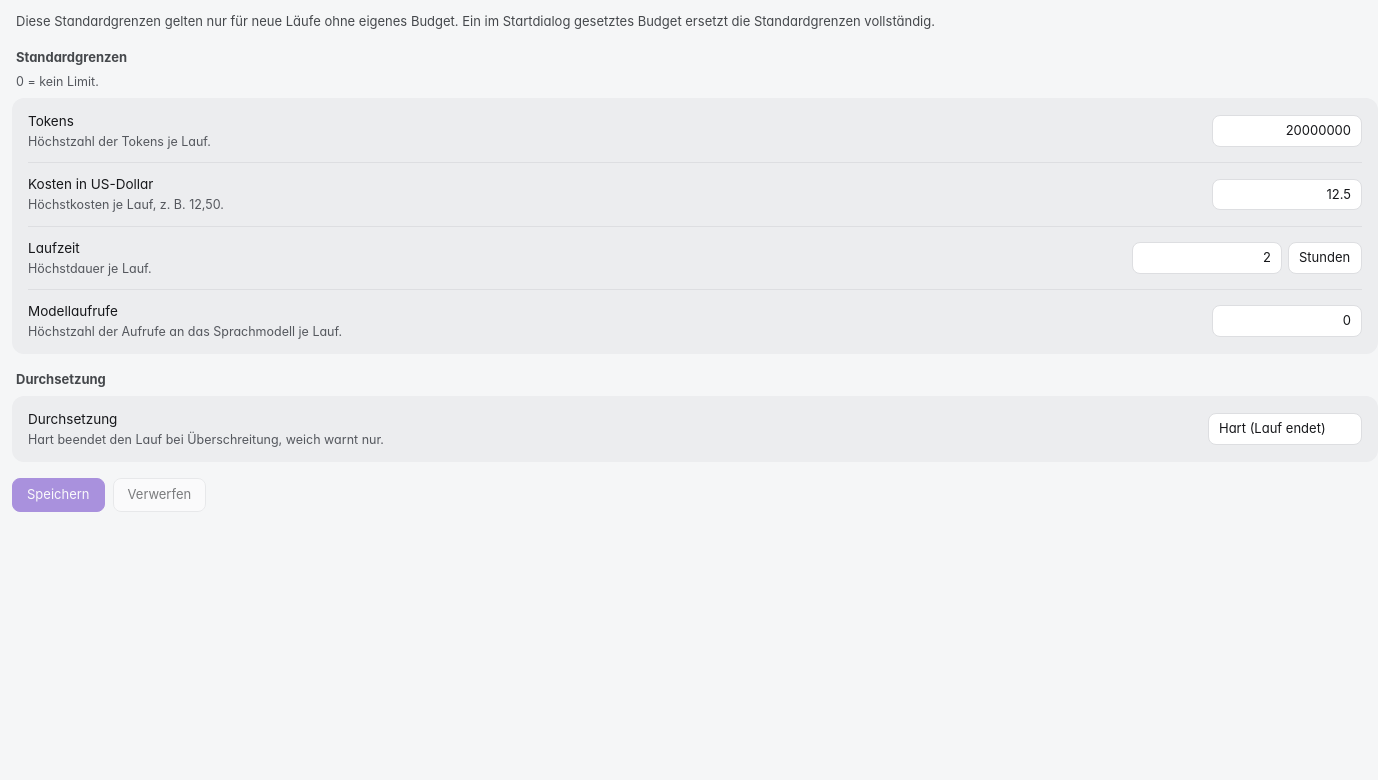
Test: SectionBudgets › speichert Kosten in Mikro-USD und Zeit in Sekunden, nur geänderte Felder
Step 1. Replace the text in the field with id "budget-cost" with "3,25" → (1287, 194), box [1212,179,1362,210]
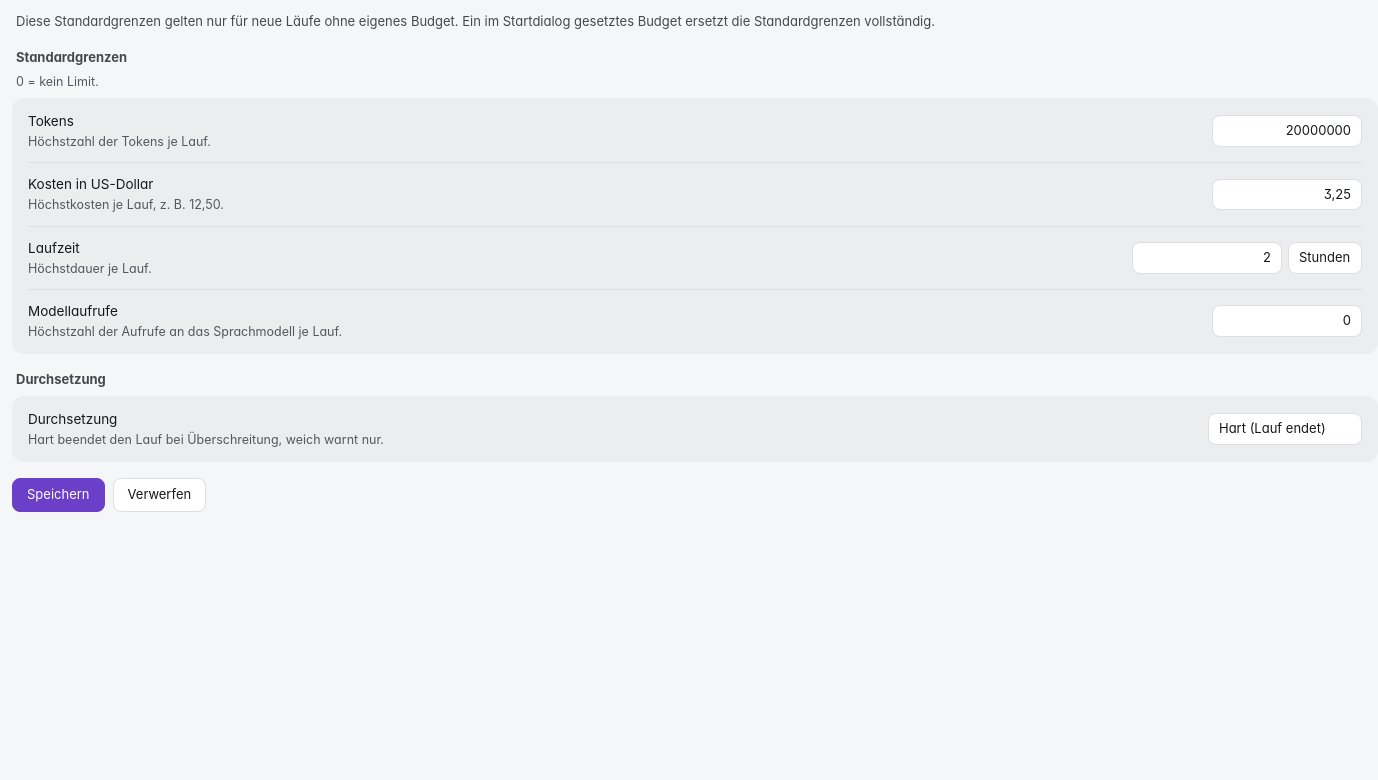
Step 2. Replace the text in the field with id "budget-duration" with "90" → (1207, 258), box [1132,242,1282,274]
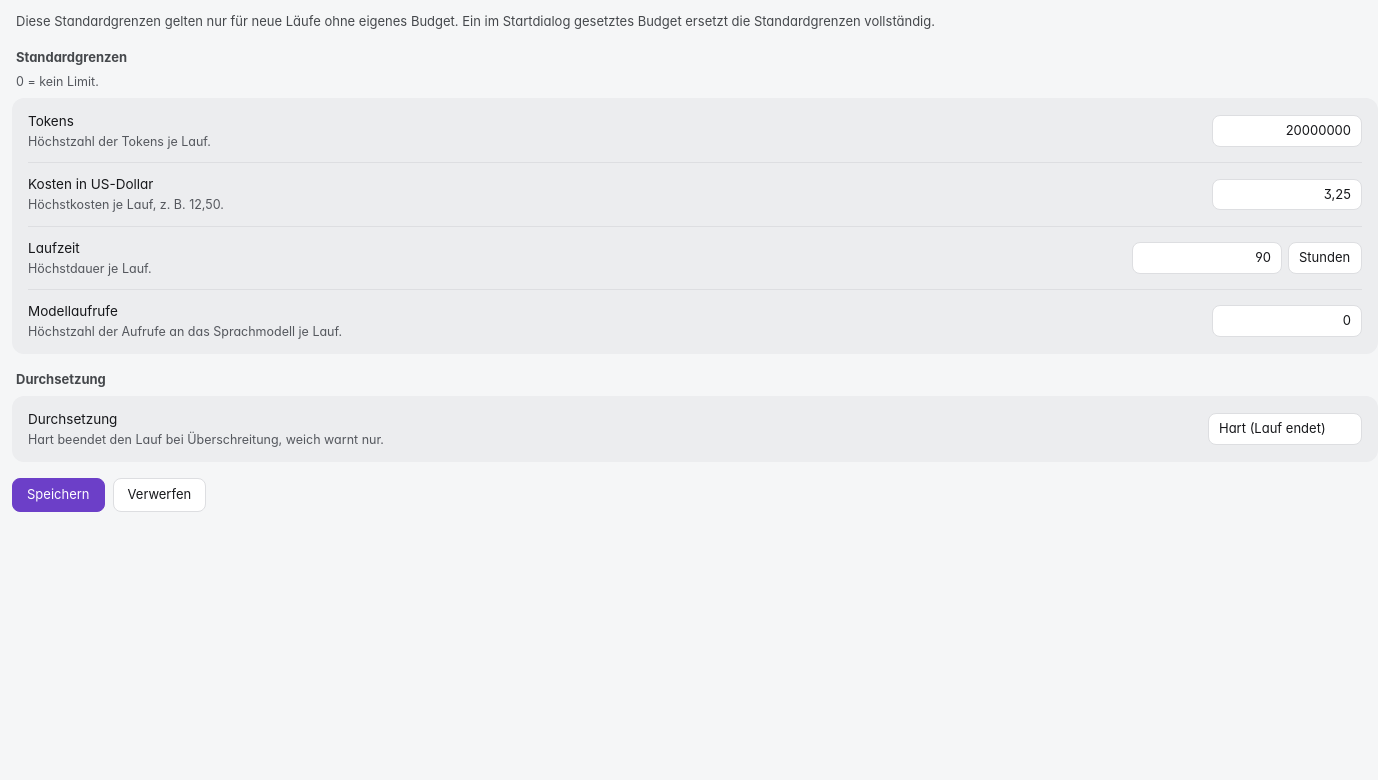
Step 3. Select "Minuten" in the dropdown named "Einheit" → (1325, 258), box [1288,242,1362,274]
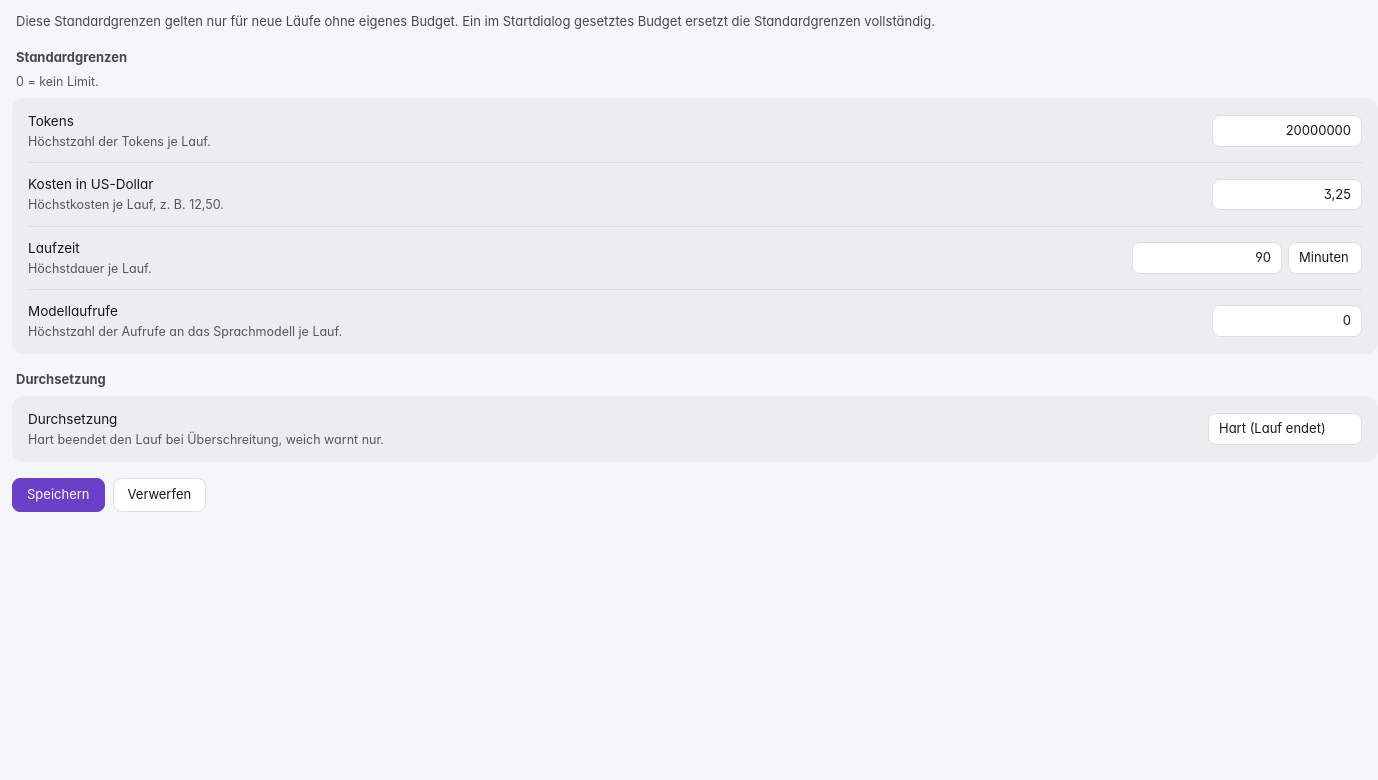
Step 4. Select "Weich (nur Warnung)" in the dropdown with id "budget-enforcement" → (1285, 429), box [1208,413,1362,445]
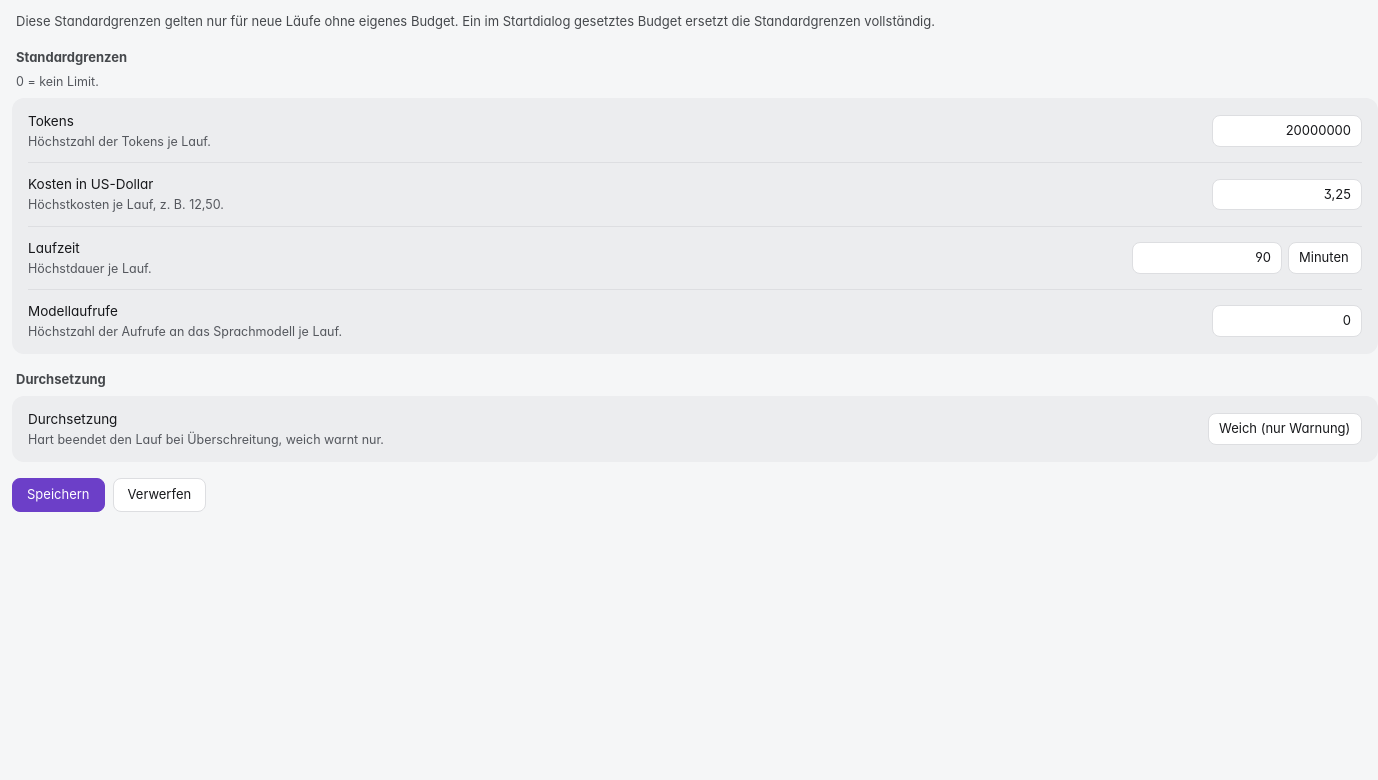
Step 5. Submit the form, box [12,48,1377,512]
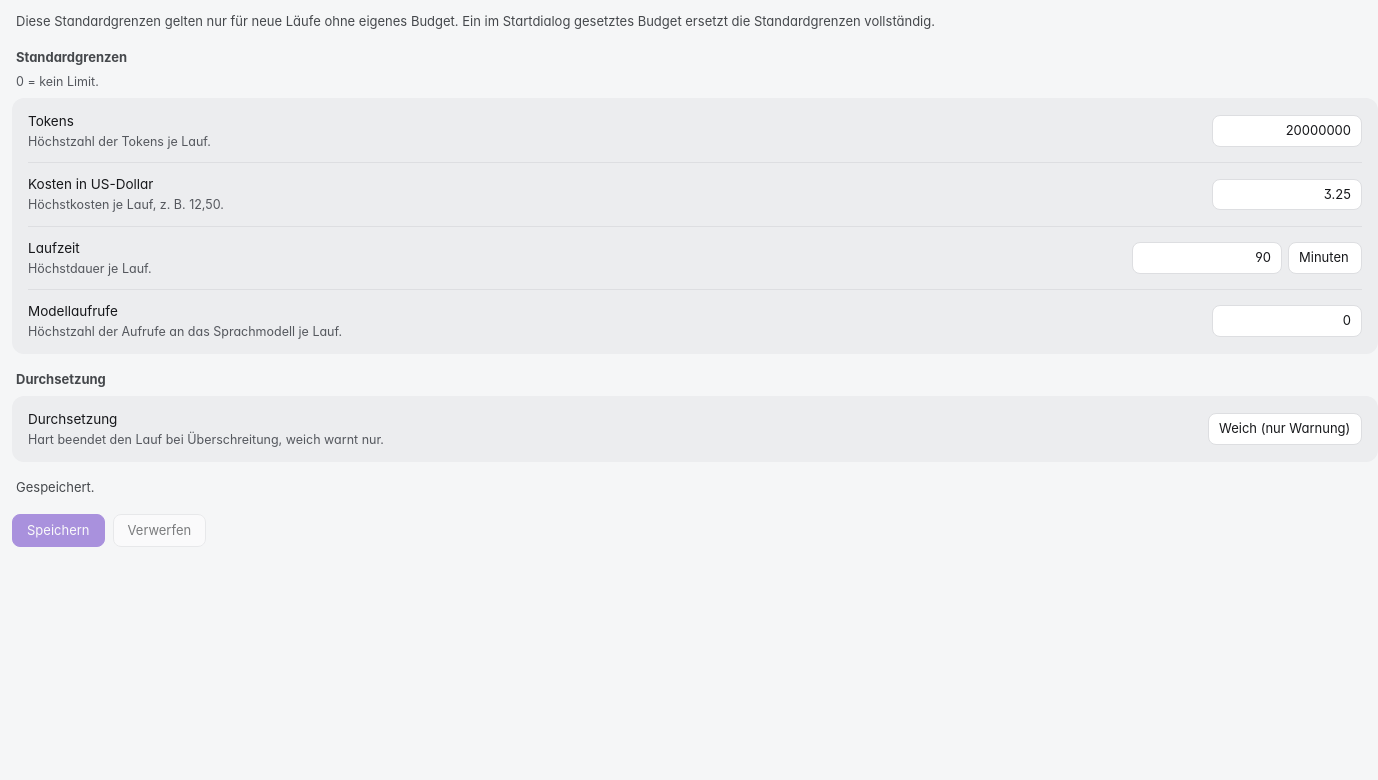
Expected: the field with id "budget-cost" holds "3.25", [1212,179,1362,210]
Now the text "Gespeichert." is shown, box [16,479,95,495]
